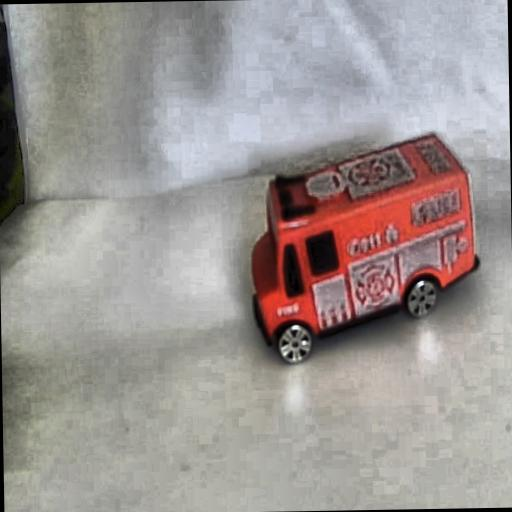fire_truck: (240, 126, 484, 364)
